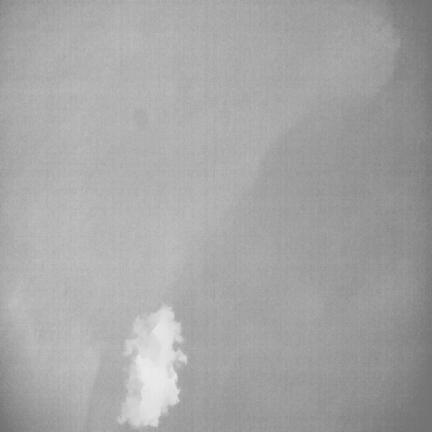flukeprints: (117, 305, 186, 428)
